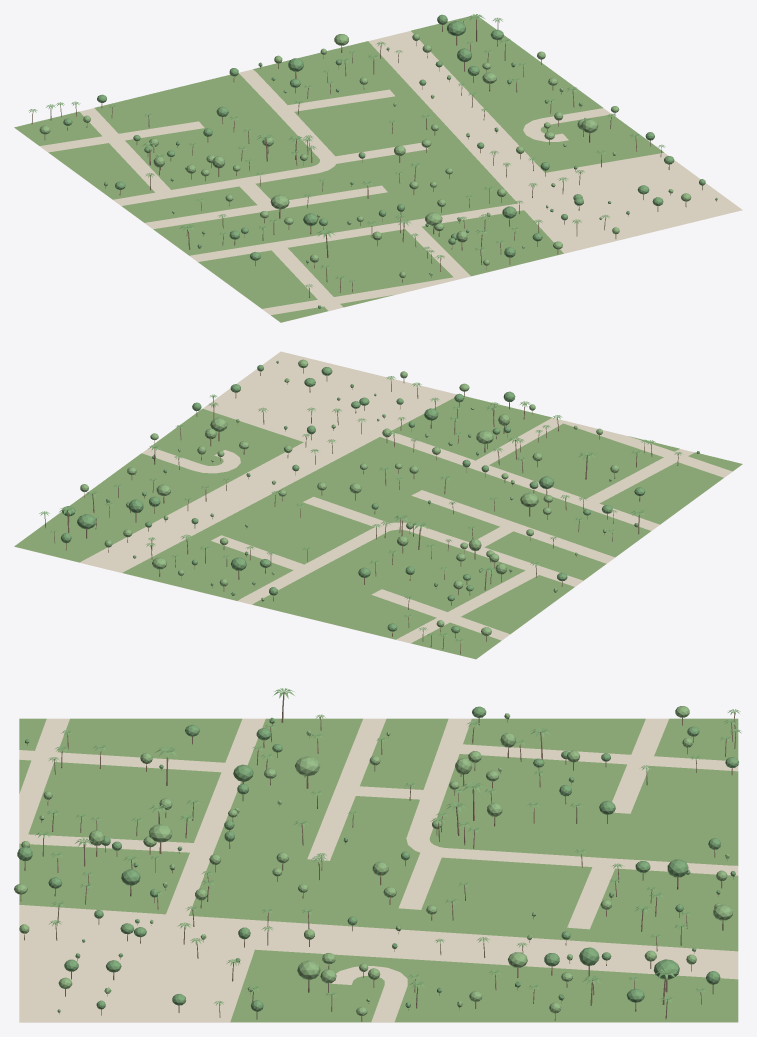
The model's file is nature_1_-3.glb.
3 renders of one model, top to bottom at view 1: azimuth 30°, elevation 25°; view 2: azimuth 150°, elevation 25°; view 3: azimuth 270°, elevation 25°, orthographic. The views are drawn at different scales.
Parts seen in each view (by area): view 1: grass, ground, foliage_b, foliage_a, palm_leaf, trunk; view 2: grass, ground, foliage_b, foliage_a, palm_leaf, trunk; view 3: grass, ground, foliage_b, foliage_a, palm_leaf, trunk.
Boxes of the visible parts, box(x1,y1,x2,y2) form: grass: box(14, 15, 663, 322); ground: box(18, 31, 742, 322); foliage_b: box(39, 33, 691, 277); foliage_a: box(63, 14, 717, 308); palm_leaf: box(29, 14, 665, 288); trunk: box(31, 19, 716, 297); grass: box(14, 396, 742, 659); ground: box(14, 351, 742, 659); foliage_b: box(80, 359, 619, 635); foliage_a: box(61, 361, 699, 633); palm_leaf: box(39, 376, 682, 642); trunk: box(44, 368, 678, 654); grass: box(19, 718, 738, 1022); ground: box(19, 718, 738, 1022); foliage_b: box(14, 706, 732, 1015); foliage_a: box(17, 706, 738, 1012); palm_leaf: box(35, 688, 741, 1005); trunk: box(20, 693, 736, 1021).
Size of the model in its own units: 253 by 13.49 by 253.
